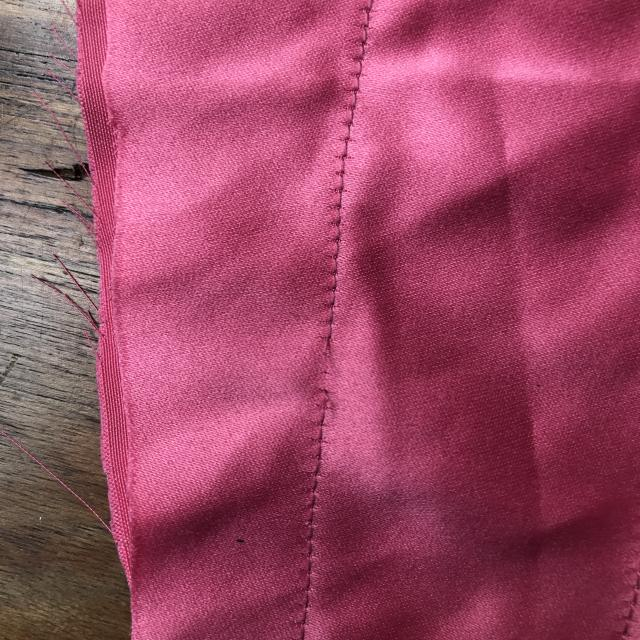broken: (294, 322, 358, 416)
